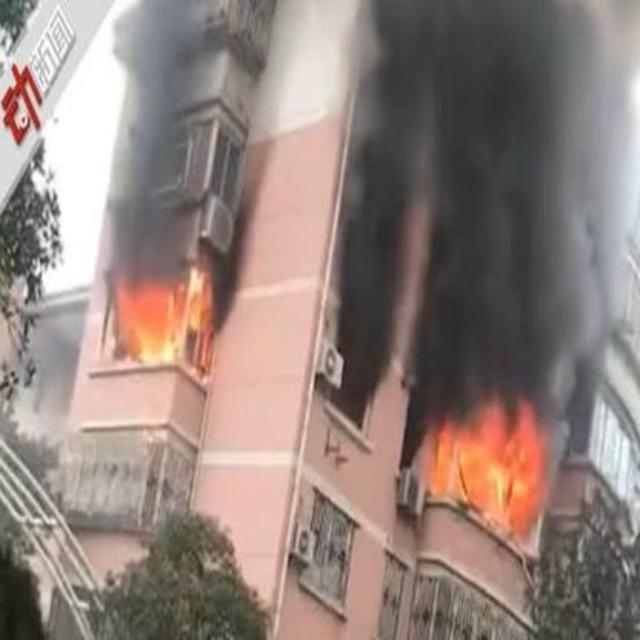Fire: (430, 391, 544, 555), (109, 274, 215, 364)
Smoke: (370, 5, 618, 383), (122, 12, 186, 274), (345, 145, 375, 415)
